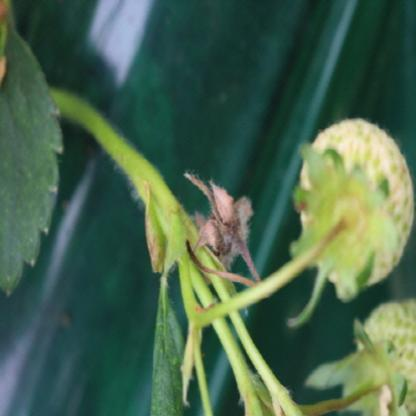Strawberry_Gray_Mold: (183, 171, 262, 286)
